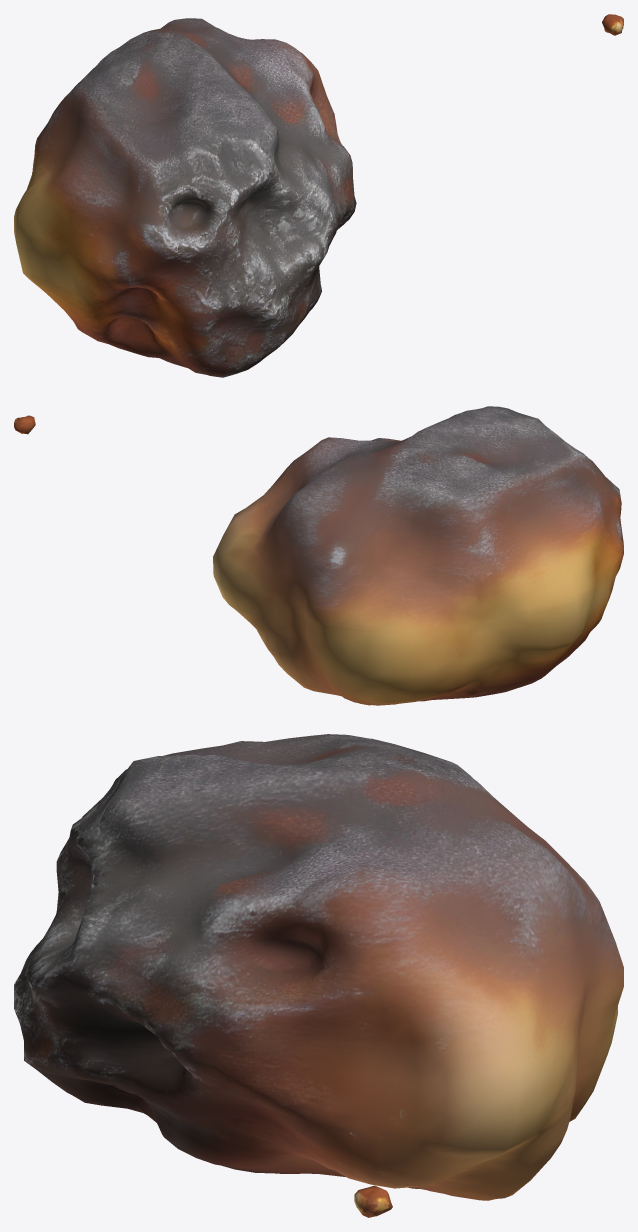
The model's file is meteor-ember.glb.
3 views of the same model, one above another, from view 1: azimuth 30°, elevation 25°; view 2: azimuth 150°, elevation 25°; view 3: azimuth 270°, elevation 25° (orthographic). The views are drawn at different scales.
Visible parts, largest first — view 1: Ember Meteor; view 2: Ember Meteor; view 3: Ember Meteor.
Boxes of the visible parts, x1,y1,x2,y2 form: Ember Meteor: [14, 14, 623, 377]; Ember Meteor: [14, 406, 623, 705]; Ember Meteor: [14, 734, 623, 1217].
Size of the model in its own units: 0.998 by 0.4395 by 0.5879.
1 material, 1 textured.
